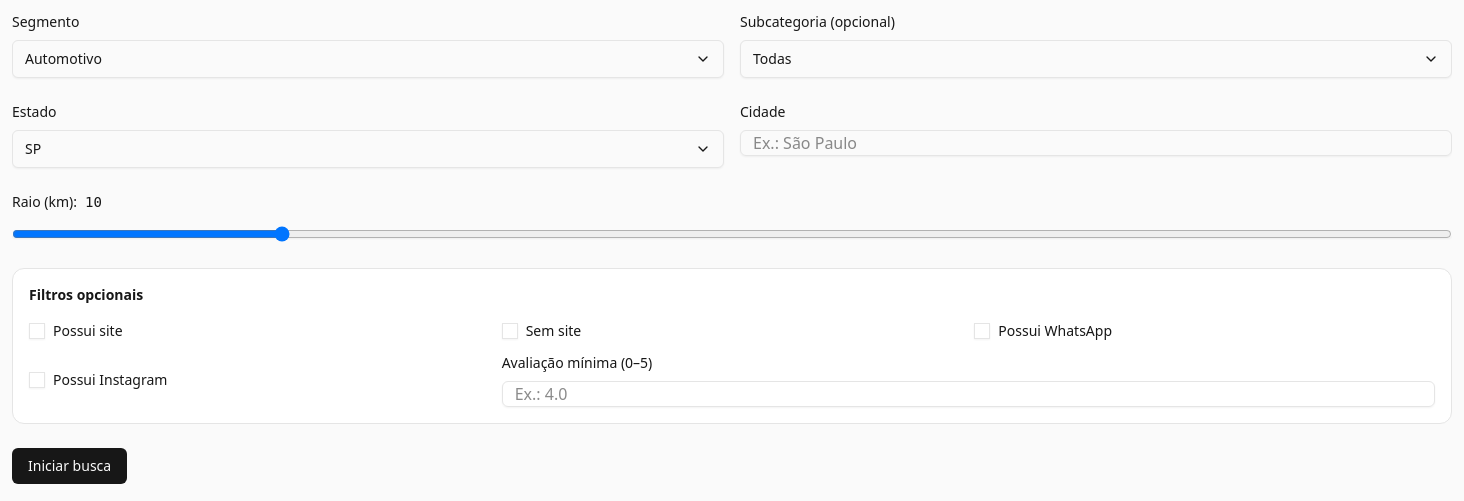
Test: SearchForm › updates subcategory options when parent segment changes
What coordinates should you click on to do the following:
click the dropdown with test id "segment-select"
I would click on:
 (63, 58)
Its box is [12,40,724,78].
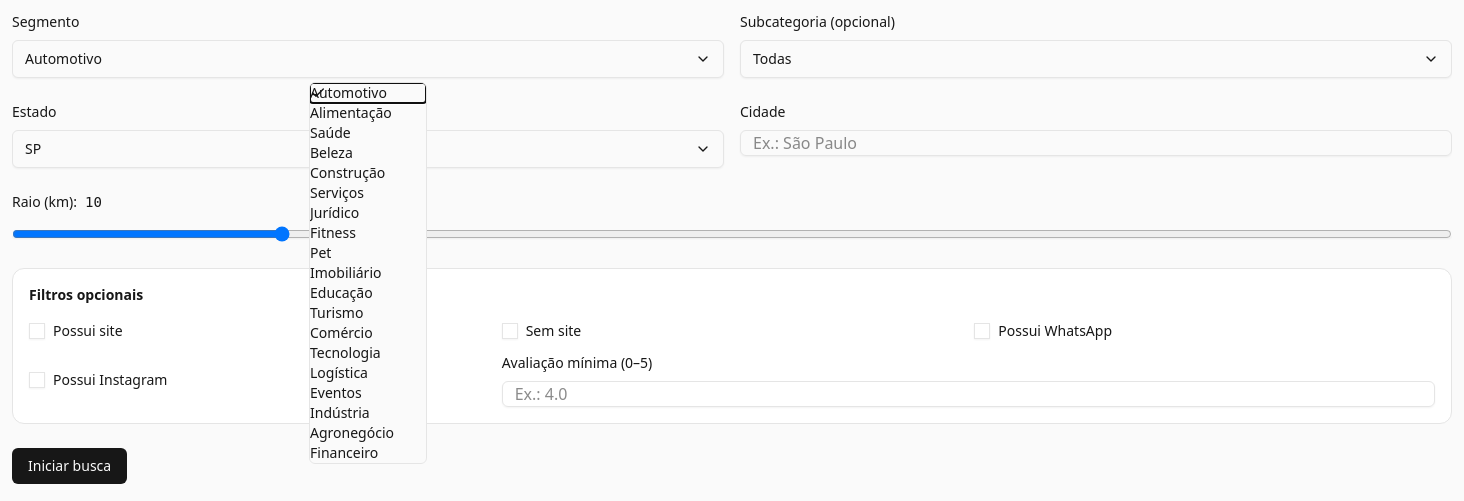
What coordinates should you click on to do the following:
click the option "Alimentação"
I would click on:
 (351, 112)
Its box is [310,103,392,122].
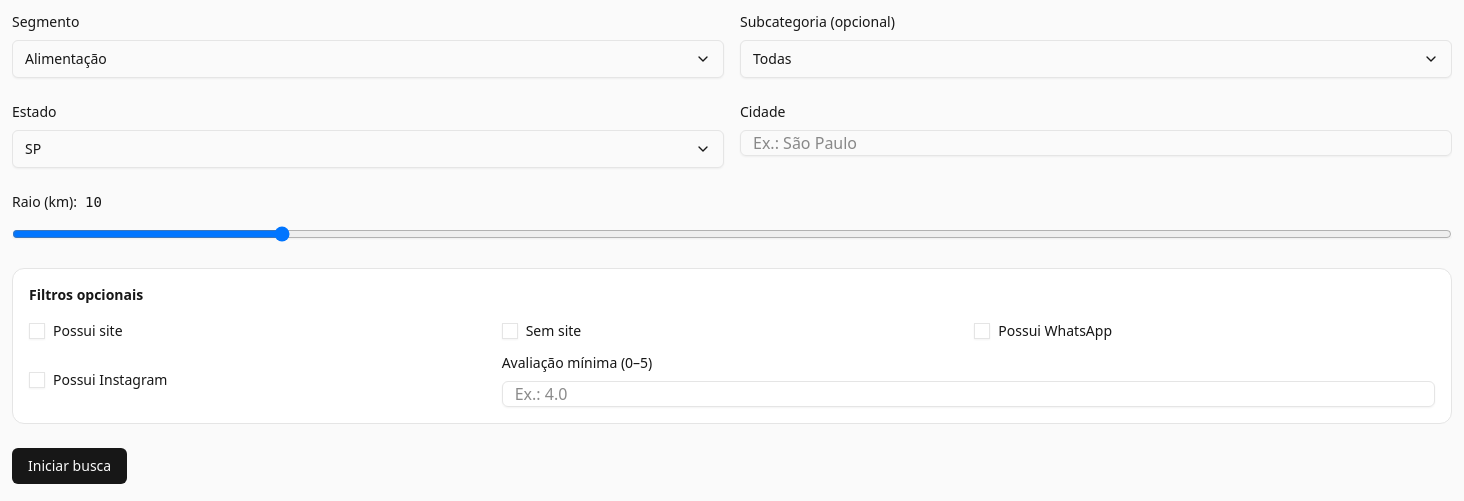
What coordinates should you click on to do the following:
click the dropdown with test id "subcategory-select"
I would click on:
 (772, 58)
Its box is [740,40,1452,78].
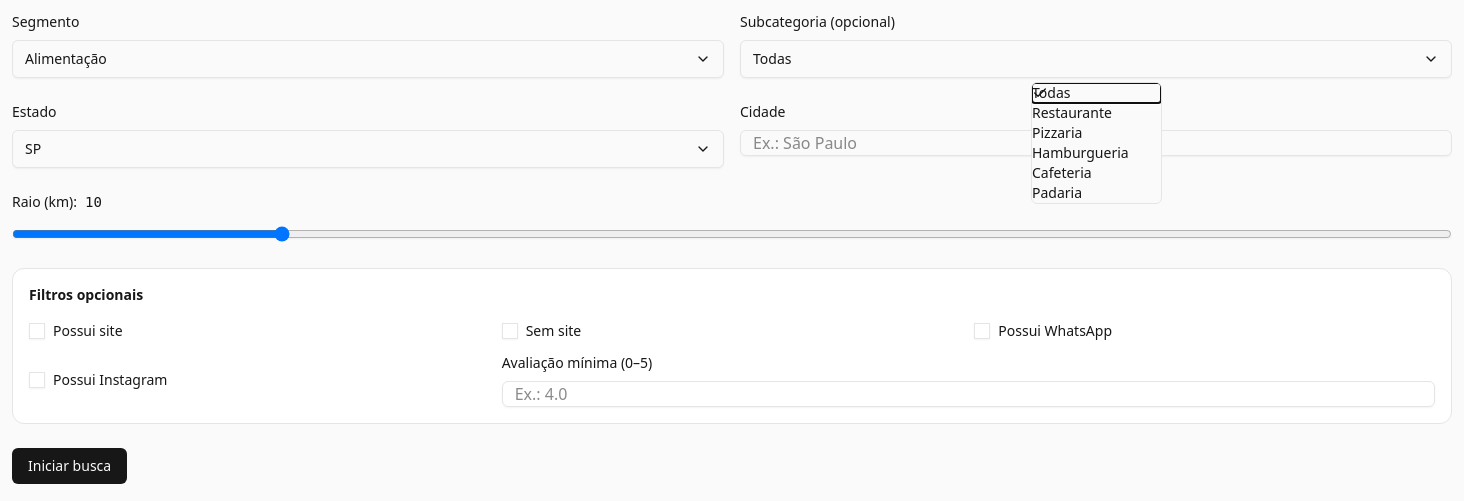
expect the option "Restaurante" is shown: met, box [1032,103,1112,122]
